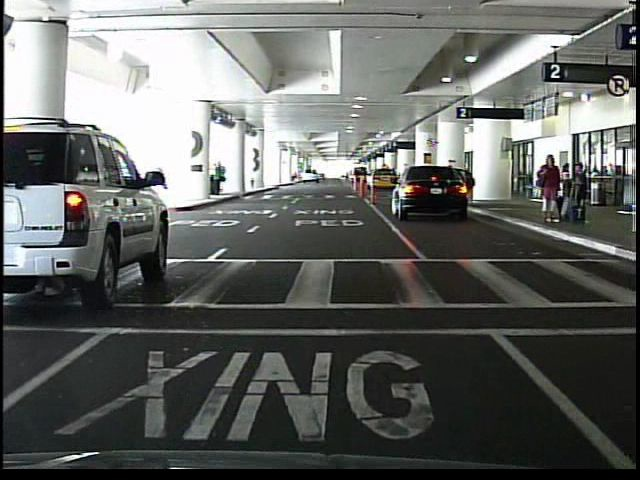person: (533, 153, 562, 224), (570, 163, 591, 225), (212, 162, 225, 198), (561, 163, 571, 200), (222, 164, 223, 196)
